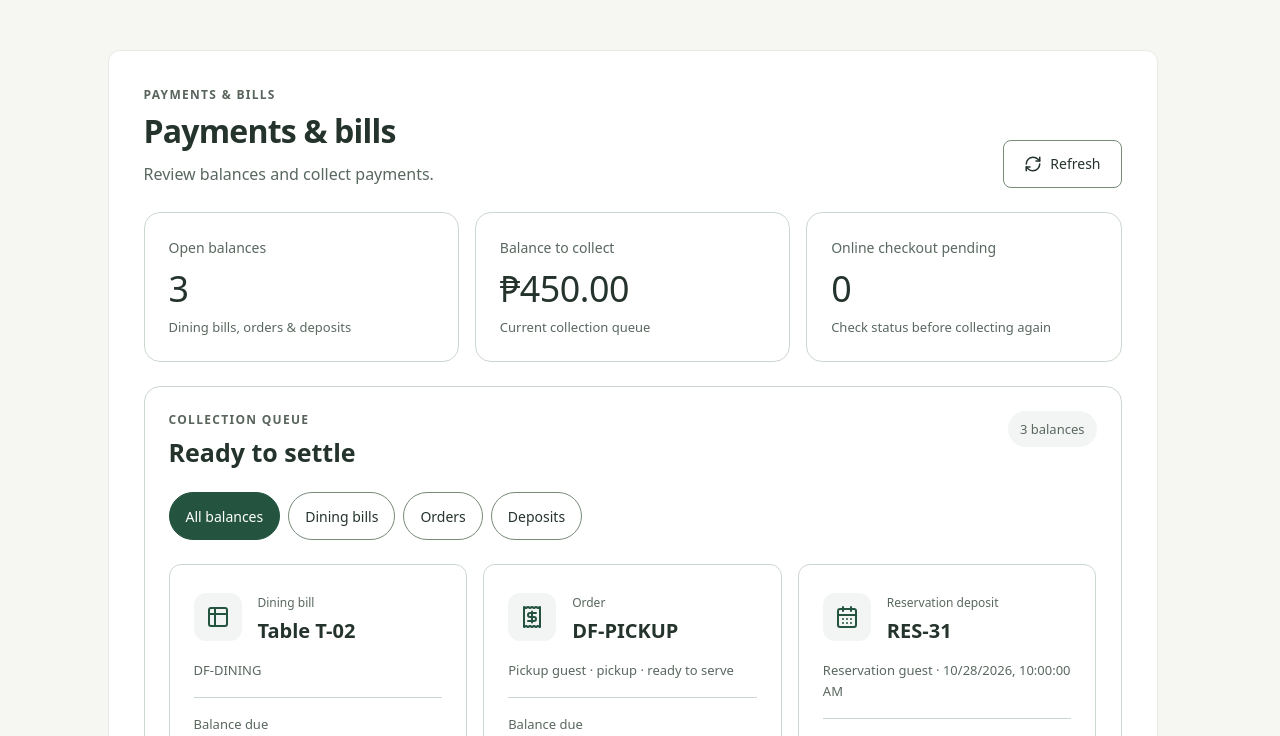
counts a consolidated dining bill once when its orders also appear in the cashier queue
Expected: the heading "Table T-02" is shown, [258,618,356,644]
Expected: the text "3" is shown, [168,264,188,313]
Click the button "Orders" at (443, 516), box [403,492,483,540]
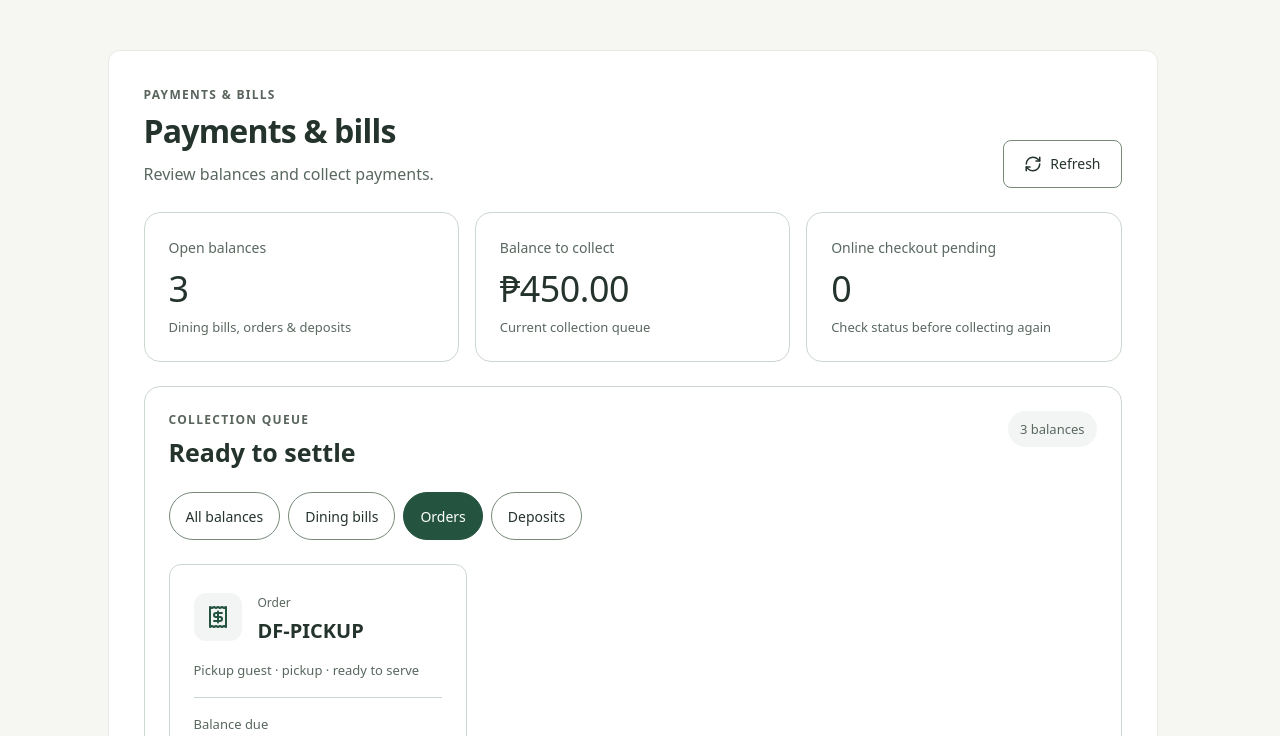
Expected: the heading "DF-PICKUP" is shown, [258,618,364,644]
Expected: the text "DF-DINING" is gone
